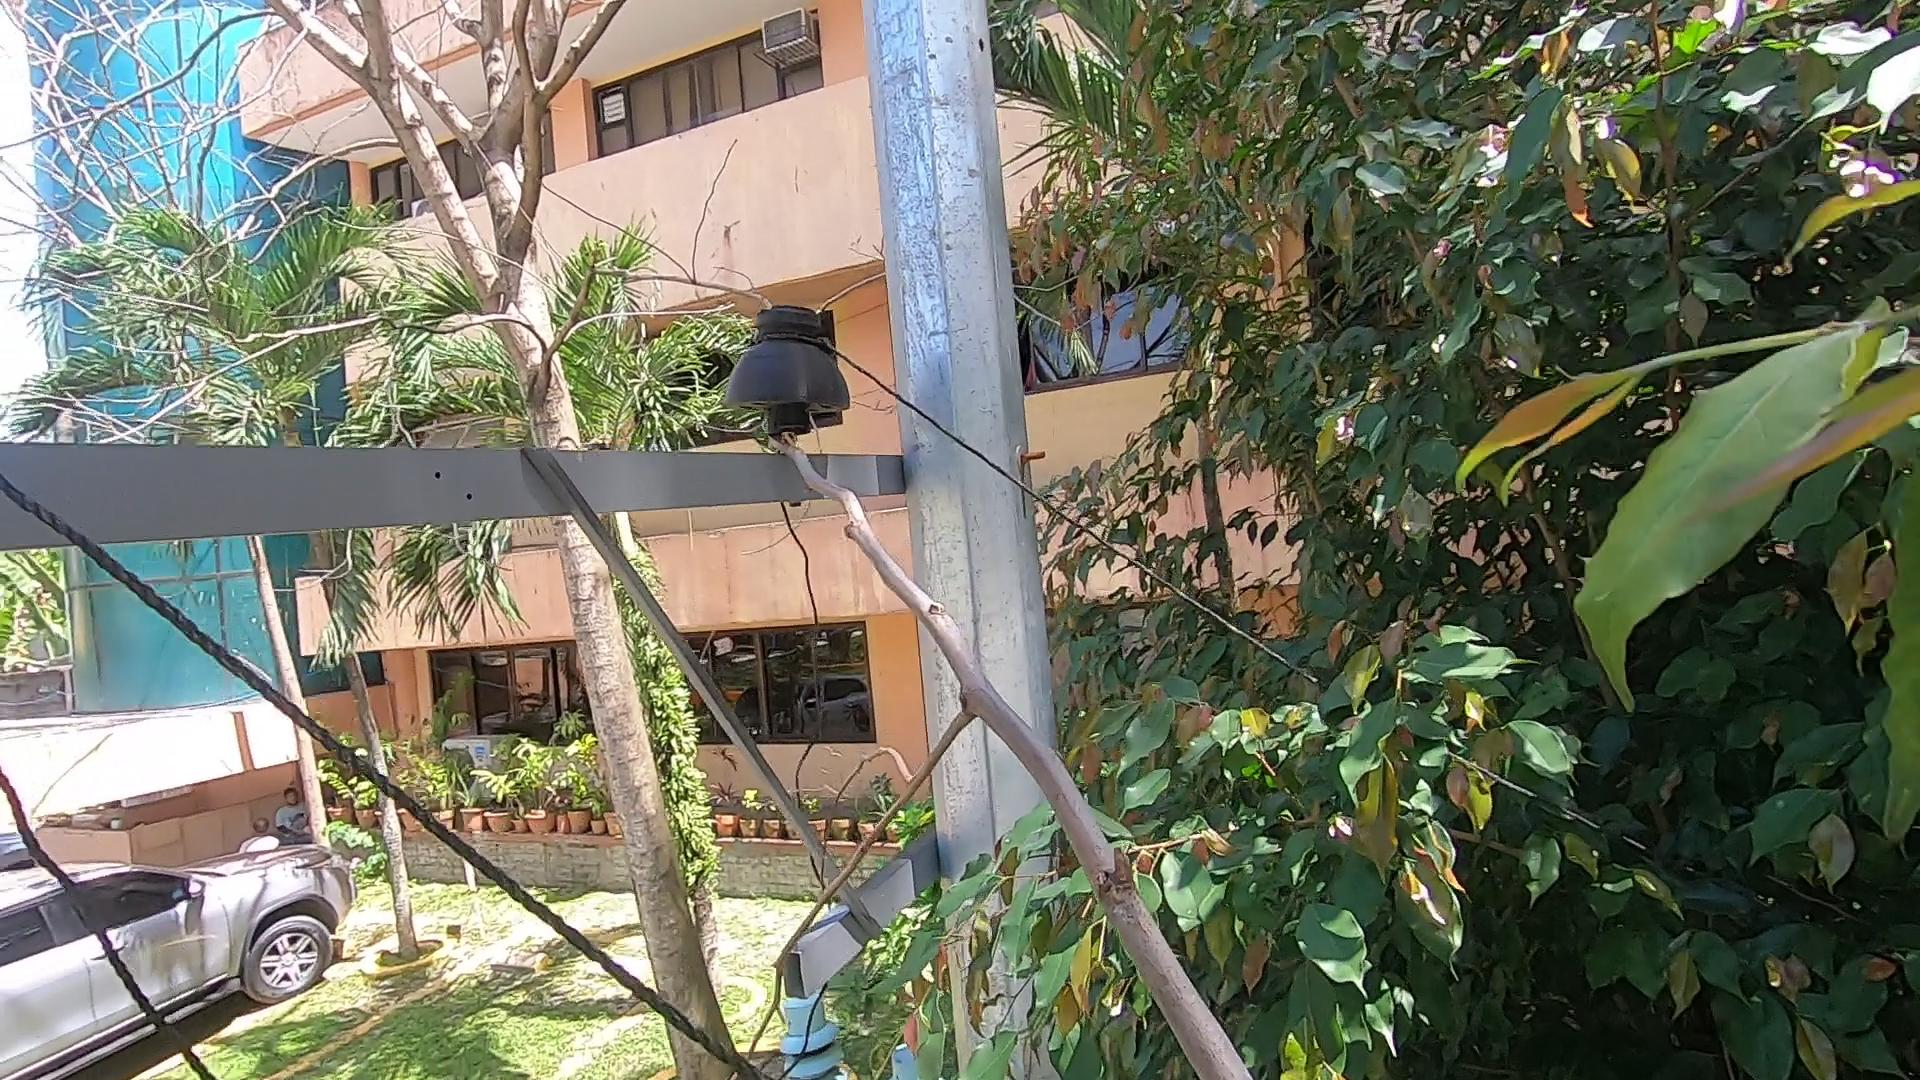branch with leaves: (851, 825, 1160, 1080)
tree branch: (683, 343, 1280, 1080)
